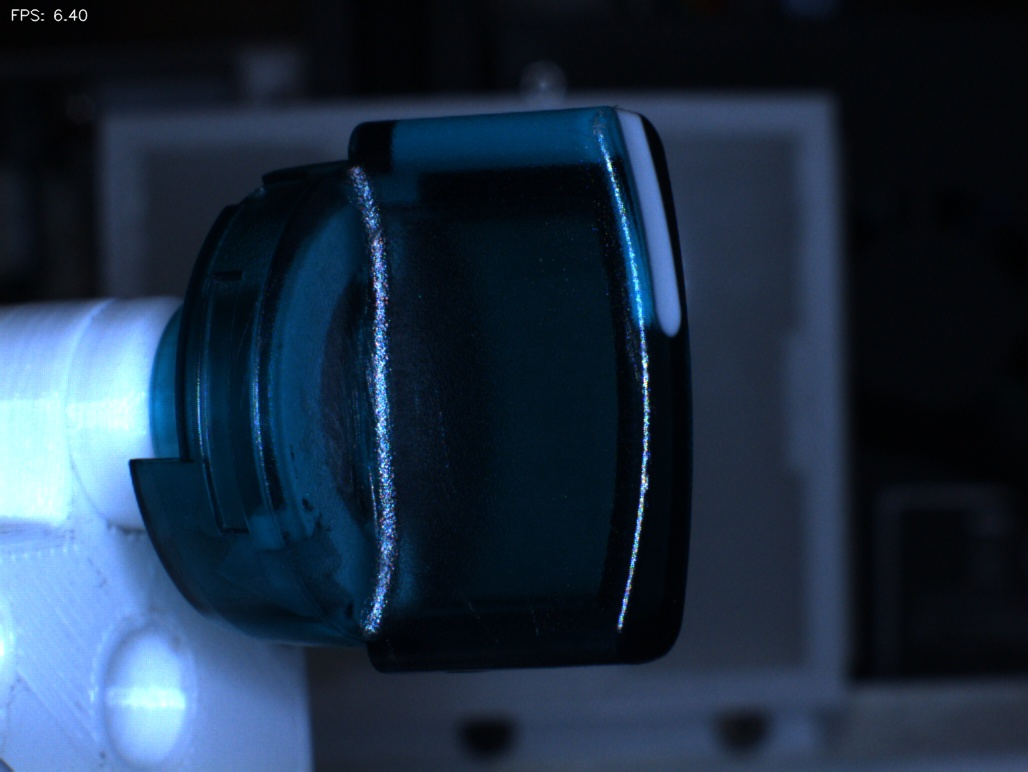Givrage: (402, 531, 504, 656), (309, 324, 371, 494)
